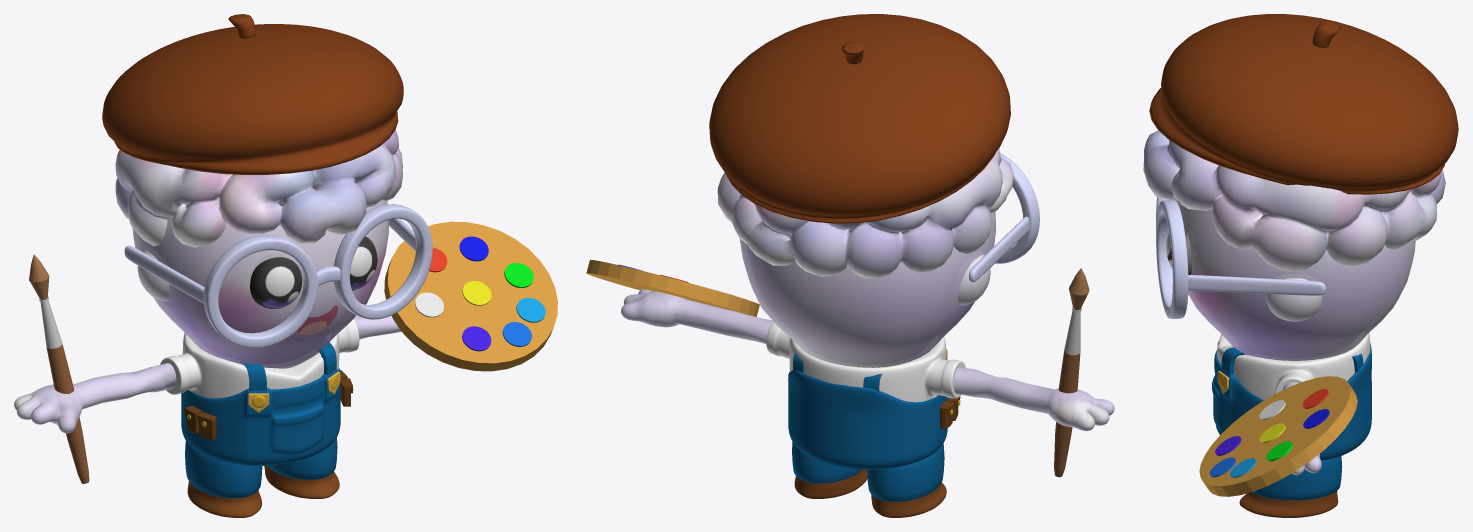
The model's file is artist.glb.
The picture shows the model from 3 angles, left to right: view 1: azimuth 30°, elevation 25°; view 2: azimuth 150°, elevation 25°; view 3: azimuth 270°, elevation 25°; orthographic projection.
Visible parts, largest first — view 1: polySurface1.001, polySurface1.013, polySurface1.009, Cylinder.003, polySurface1.003, polySurface1.010, polySurface1.002, polySurface1.011, polySurface1.007, Cylinder, polySurface1.008, Cylinder.002 (+1 smaller); view 2: polySurface1.001, polySurface1.013, polySurface1.009, polySurface1.003, polySurface1.002, Cylinder.003, polySurface1.010, polySurface1.007, Cylinder, Cylinder.002; view 3: polySurface1.001, polySurface1.009, polySurface1.013, Cylinder.003, polySurface1.003, polySurface1.010, polySurface1.002, polySurface1.007.
Part boxes in pixels (x1,y1,x2,y2): polySurface1.001: (102, 14, 403, 174); polySurface1.013: (14, 174, 401, 433); polySurface1.009: (115, 130, 403, 247); Cylinder.003: (384, 221, 557, 371); polySurface1.003: (181, 342, 340, 498); polySurface1.010: (124, 204, 432, 348); polySurface1.002: (160, 319, 359, 398); polySurface1.011: (250, 236, 377, 308); polySurface1.007: (187, 466, 339, 517); Cylinder: (46, 344, 89, 483); polySurface1.008: (184, 370, 352, 440); Cylinder.002: (39, 296, 62, 348); polySurface1.001: (709, 14, 1010, 223); polySurface1.013: (621, 211, 1114, 431); polySurface1.009: (717, 147, 1013, 278); polySurface1.003: (788, 353, 947, 501); polySurface1.002: (766, 322, 965, 402); Cylinder.003: (586, 259, 759, 316); polySurface1.010: (969, 153, 1039, 282); polySurface1.007: (794, 469, 946, 517); Cylinder: (1054, 351, 1080, 477); Cylinder.002: (1064, 306, 1081, 355); polySurface1.001: (1149, 14, 1458, 194); polySurface1.009: (1143, 130, 1445, 271); polySurface1.013: (1176, 200, 1415, 475); Cylinder.003: (1199, 376, 1357, 496); polySurface1.003: (1212, 343, 1371, 500); polySurface1.010: (1156, 197, 1326, 318); polySurface1.002: (1217, 333, 1370, 400); polySurface1.007: (1239, 491, 1338, 517).
Size of the model in its own units: 1.47 by 1.24 by 0.7702.
25 materials, 5 textured.
